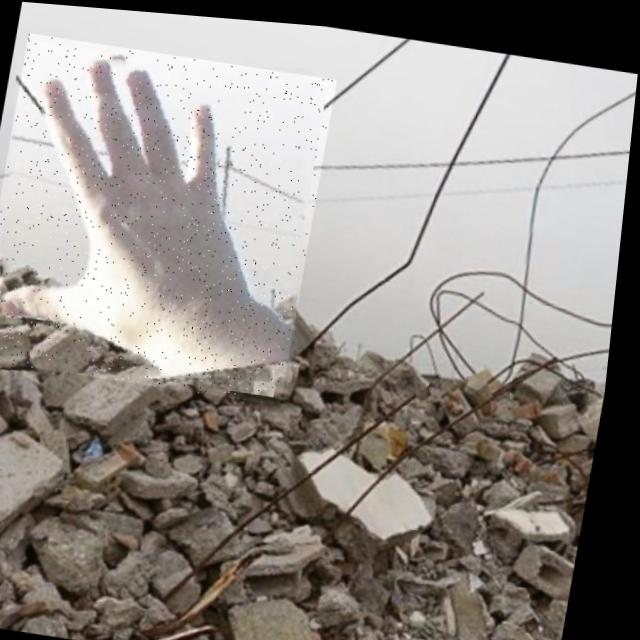Person in Rubble: (0, 31, 339, 401)
